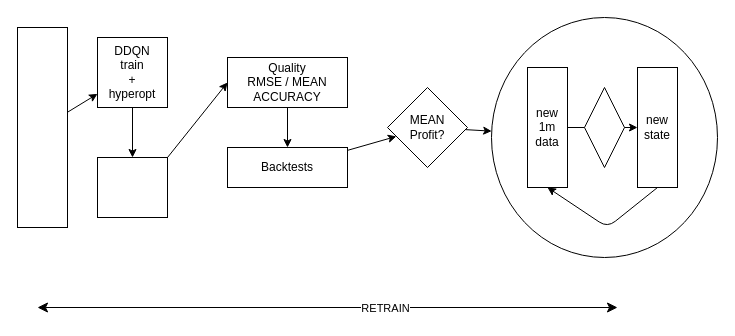
Some shapes in this 735 by 336 pixel diagram are drawn without their labels. Here are the shapes that lost their labels. From the top down, the centre of each, then its label:
At (42,127): "356D 1m candles data".
At (604,127): "action".
At (132,187): "DDQN test".
